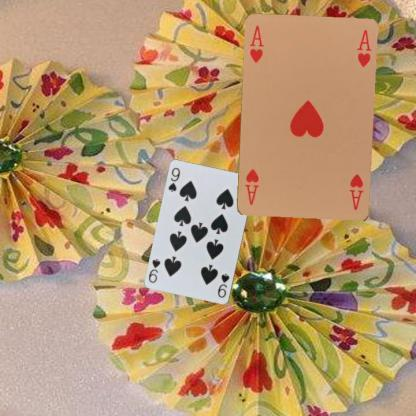9s: (166, 165, 181, 194), (215, 271, 230, 299)
Ah: (247, 23, 265, 65), (347, 171, 365, 212)
